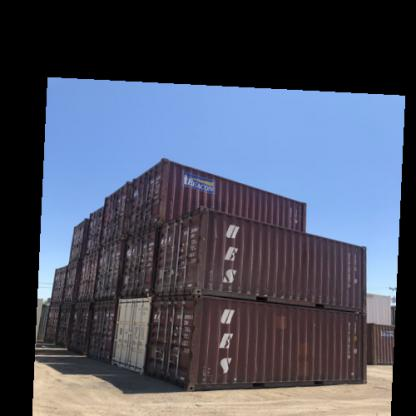Damage: (184, 312, 204, 355)
